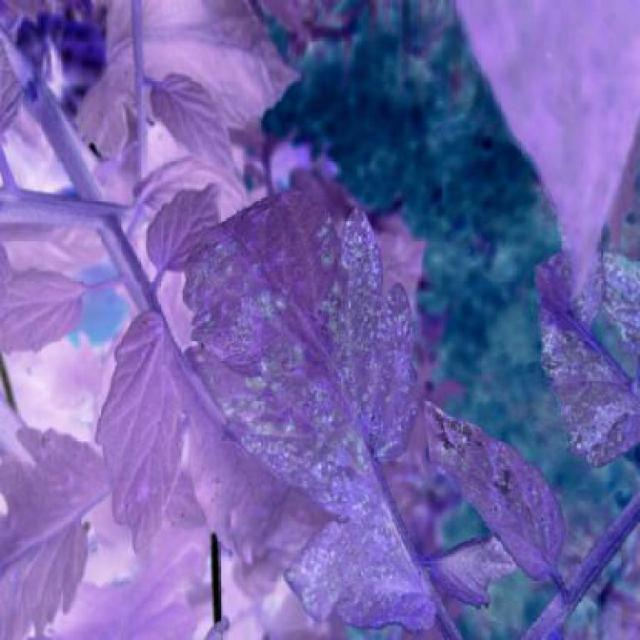Tomato Septoria spot leaf: (186, 202, 406, 498), (431, 394, 560, 582), (269, 518, 497, 617)
